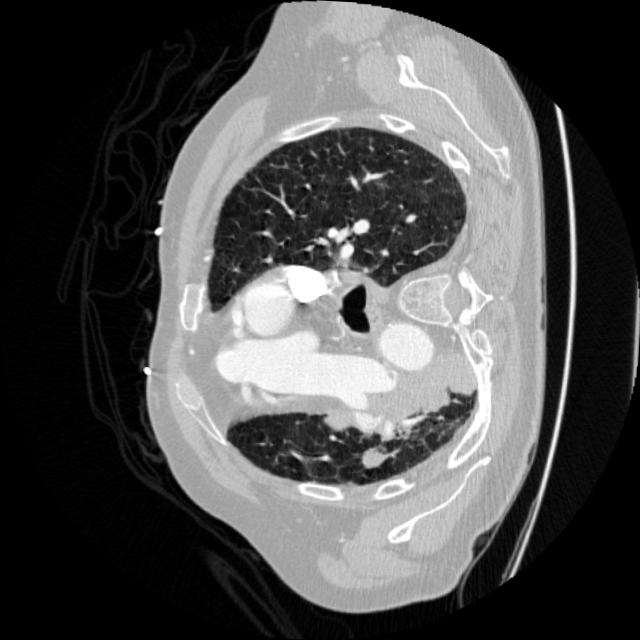nodule: (346, 428, 400, 483)
